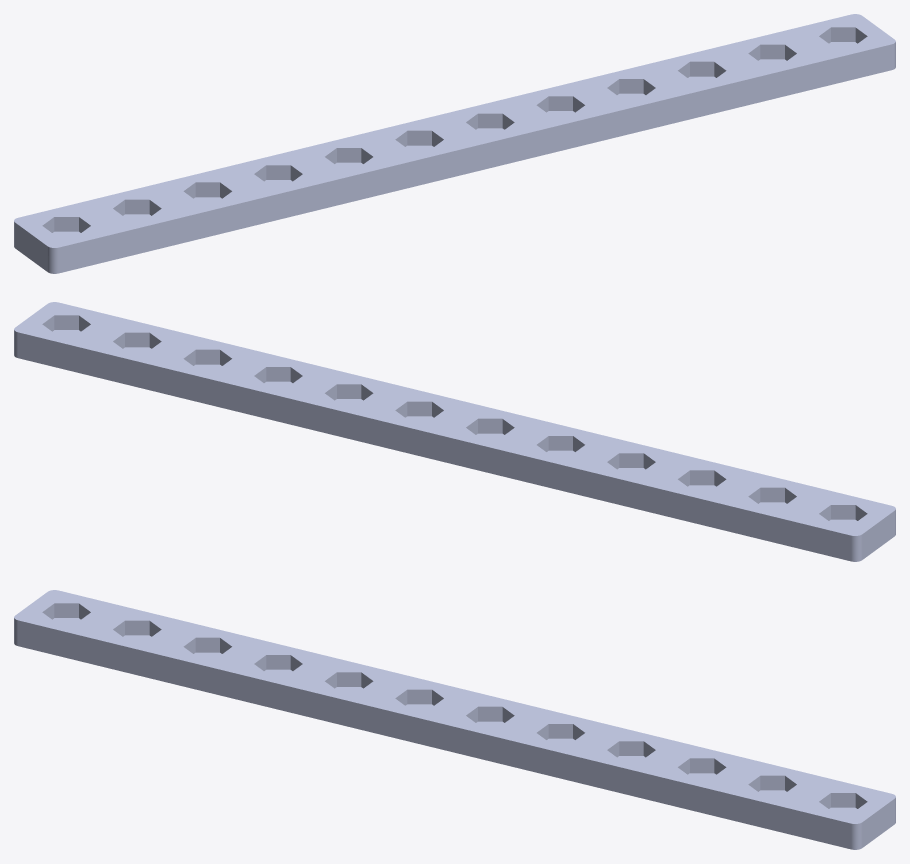
3 renders of one model, top to bottom at view 1: azimuth 30°, elevation 25°; view 2: azimuth 150°, elevation 25°; view 3: azimuth 330°, elevation 25°, orthographic.
Visible parts, largest first — view 1: S12; view 2: S12; view 3: S12.
Boxes of the visible parts, x1,y1,x2,y2 form: S12: [14, 14, 895, 273]; S12: [14, 302, 895, 561]; S12: [14, 590, 895, 849].
Size of the model in its own units: 0.12 by 0.0035 by 0.01.
